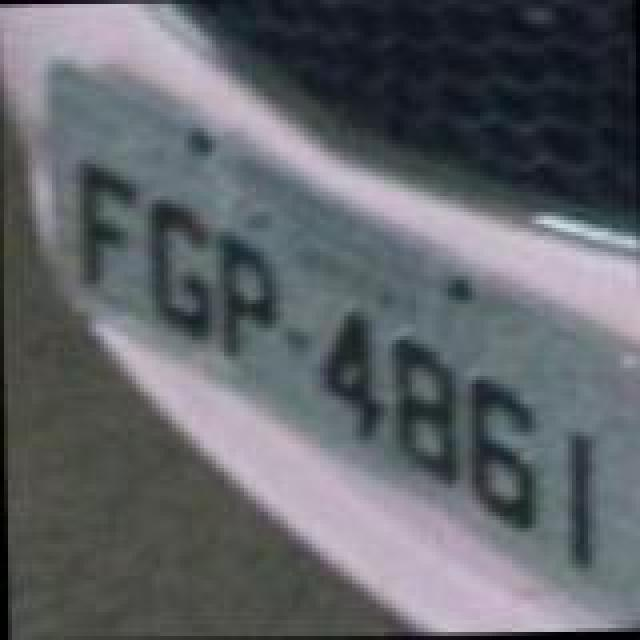1: (558, 426, 606, 574)
4: (312, 306, 388, 442)
6: (464, 378, 544, 538)
8: (392, 334, 464, 490)
F: (62, 162, 146, 294)
G: (140, 198, 216, 338)
P: (214, 228, 286, 364)
